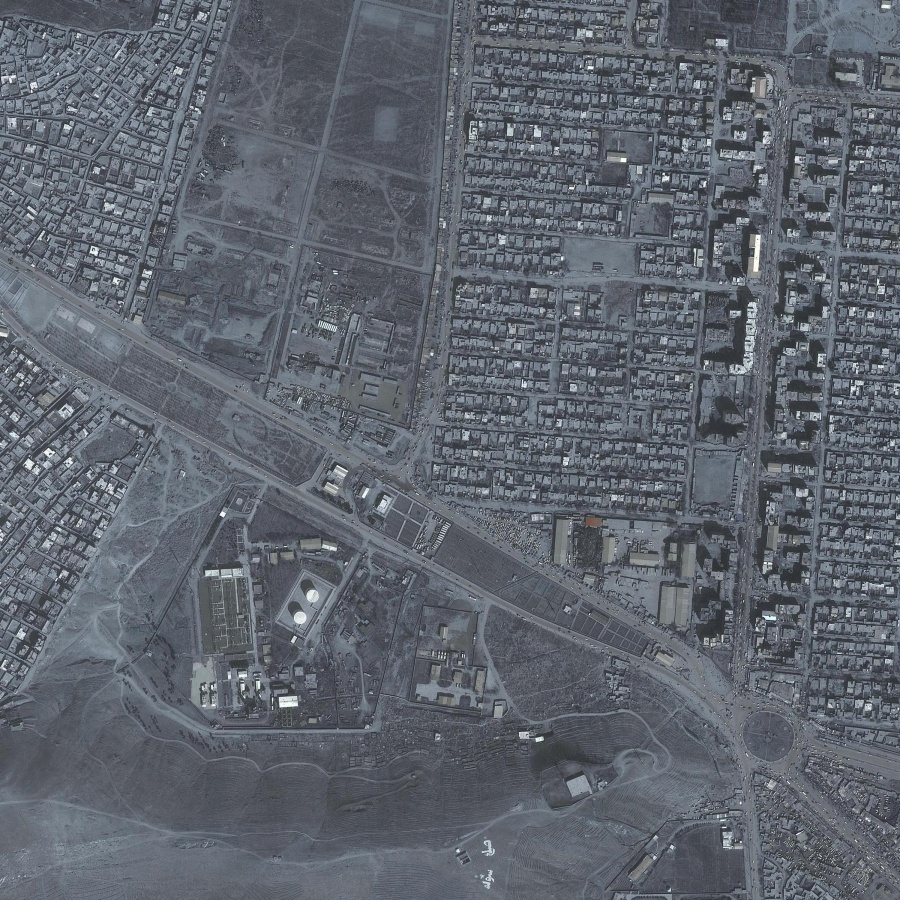PowerPlant: (200, 531, 343, 722)
